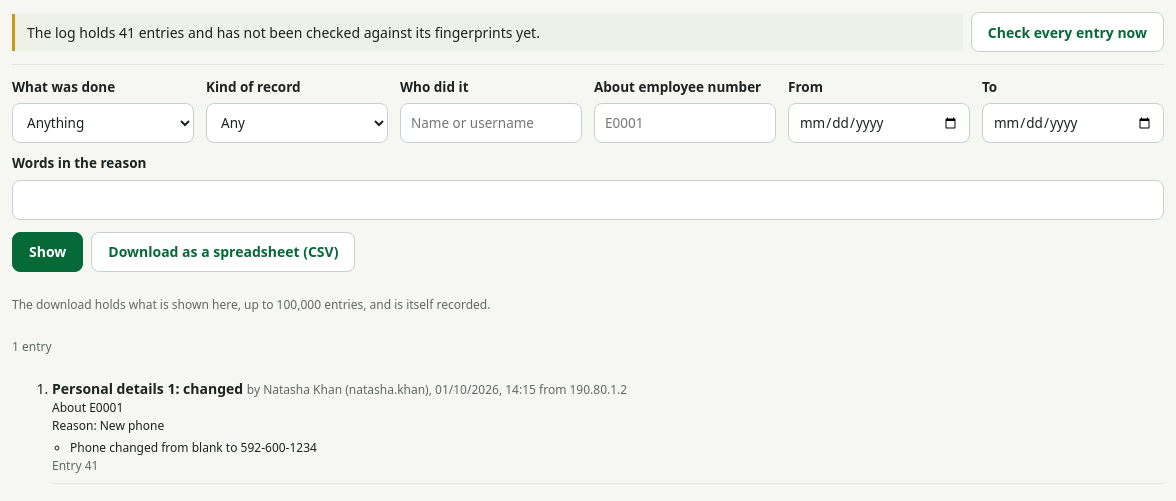
Test case: the audit log › checks the chain on request
The image size is (1176, 501).
Expected: the text "has not been checked against its fingerprints yet" is shown, [135,22,540,42]
Click the button "Check every entry now". click: (1067, 32)
box: [971,12,1164,52]
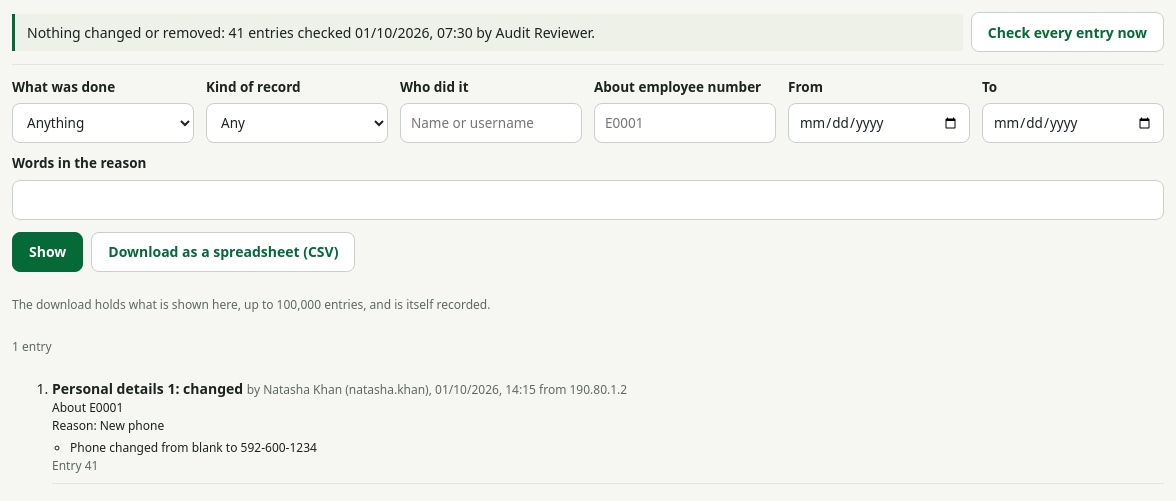
Now the message shows "41 entries checked", box [12,14,963,50]
